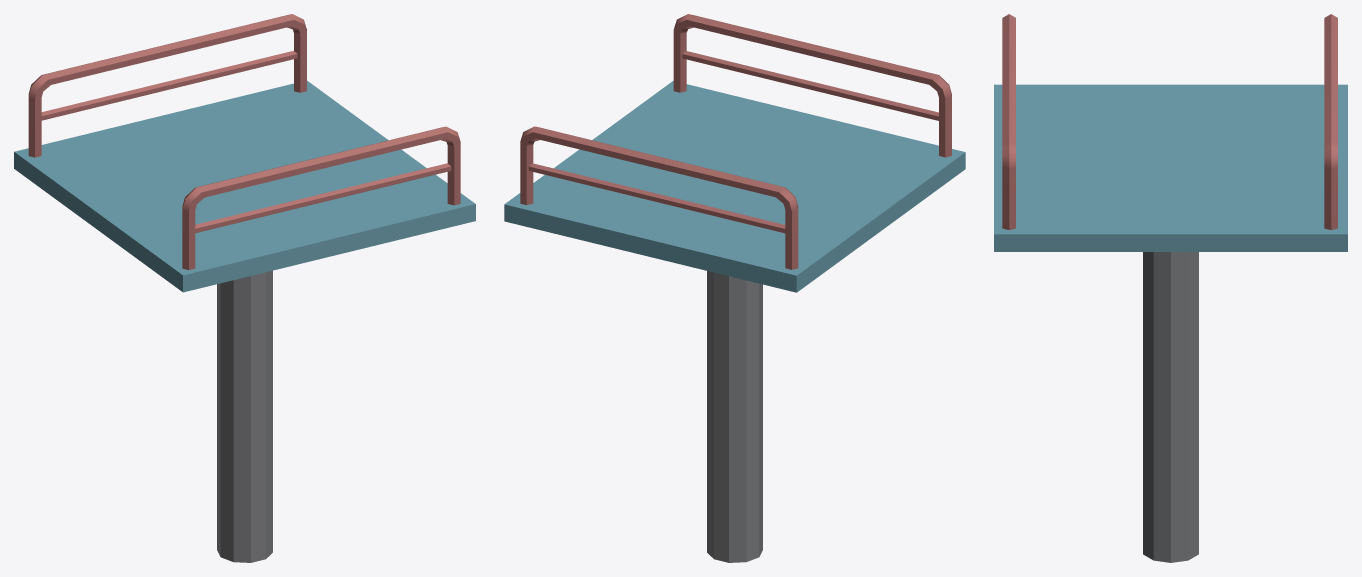
File: O_Interactive_Lift 1.fbx
3 views of the same model, side by side, from view 1: azimuth 30°, elevation 25°; view 2: azimuth 150°, elevation 25°; view 3: azimuth 270°, elevation 25° (orthographic). The views are drawn at different scales.
Visible parts, largest first — view 1: pCylinder12; view 2: pCylinder12; view 3: pCylinder12.
Boxes of the visible parts, <box> form: pCylinder12: <box>14,14,475,562</box>; pCylinder12: <box>504,14,965,562</box>; pCylinder12: <box>994,14,1347,562</box>.
Size of the model in its own units: 2 by 2.95 by 2.
